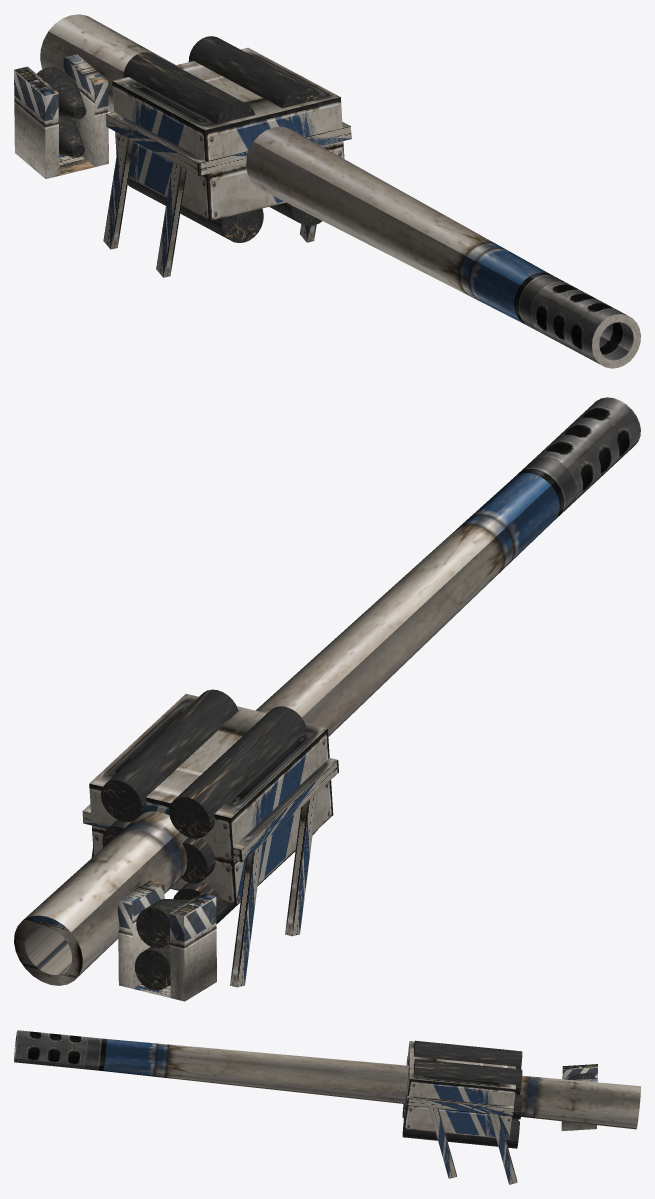
The model's file is titan_tower_01.dae.
3 renders of one model, top to bottom at view 1: azimuth 30°, elevation 25°; view 2: azimuth 150°, elevation 25°; view 3: azimuth 270°, elevation 25°, orthographic. The views are drawn at different scales.
Visible parts, largest first — view 1: titan_tower_02; view 2: titan_tower_02; view 3: titan_tower_02.
Part boxes in pixels (x1,y1,x2,y2): titan_tower_02: (14,14,640,368); titan_tower_02: (14,397,640,1001); titan_tower_02: (14,1030,640,1184).
Bounding box in the file's own units: 4.37 × 24.23 × 5.63.
